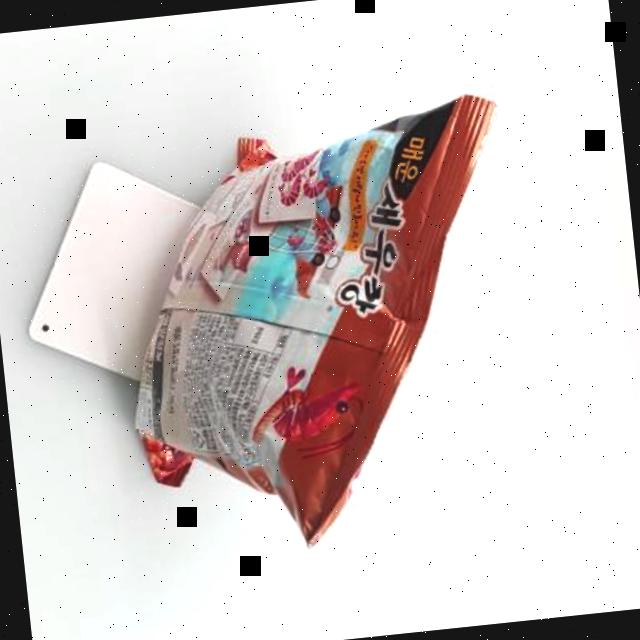snack_bag: (98, 67, 550, 574)
